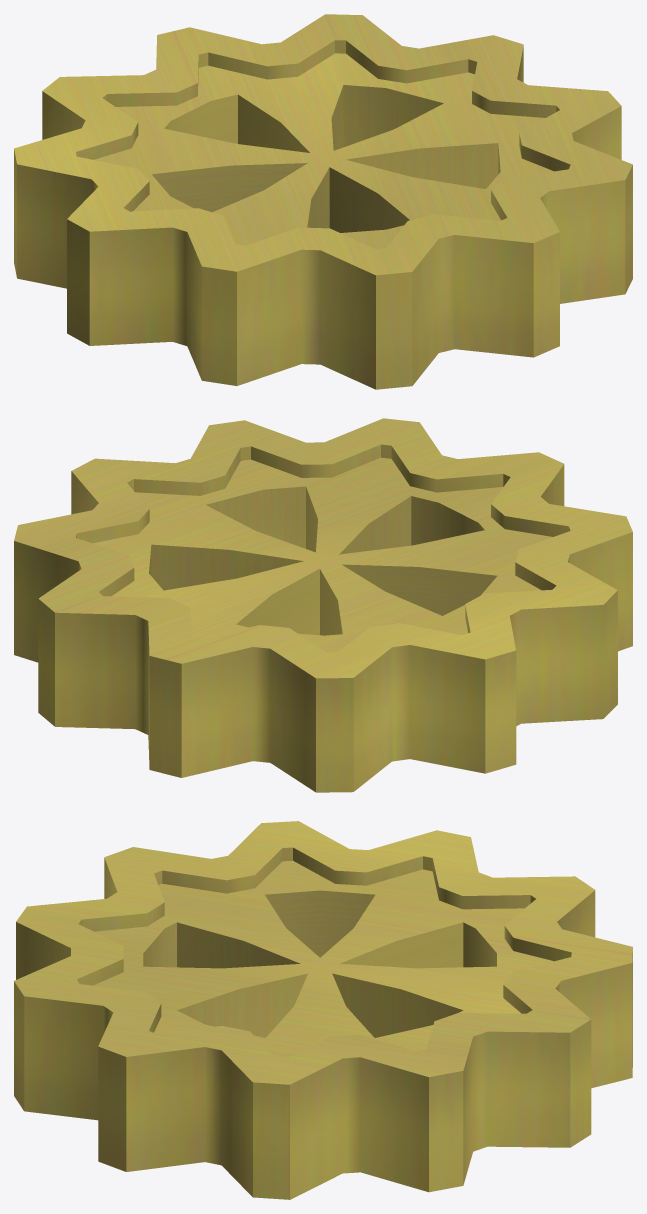
The model's file is CogFacet5Spoke011.fbx.
The picture shows the model from 3 angles, top to bottom: view 1: azimuth 30°, elevation 25°; view 2: azimuth 150°, elevation 25°; view 3: azimuth 270°, elevation 25°; orthographic projection.
Parts seen in each view (by area): view 1: CogFacet5Spoke011; view 2: CogFacet5Spoke011; view 3: CogFacet5Spoke011.
Boxes of the visible parts, box(x1,y1,x2,y2) form: CogFacet5Spoke011: box(14, 14, 632, 389); CogFacet5Spoke011: box(14, 418, 632, 792); CogFacet5Spoke011: box(14, 821, 632, 1199).
Size of the model in its own units: 107 by 21.75 by 106.
